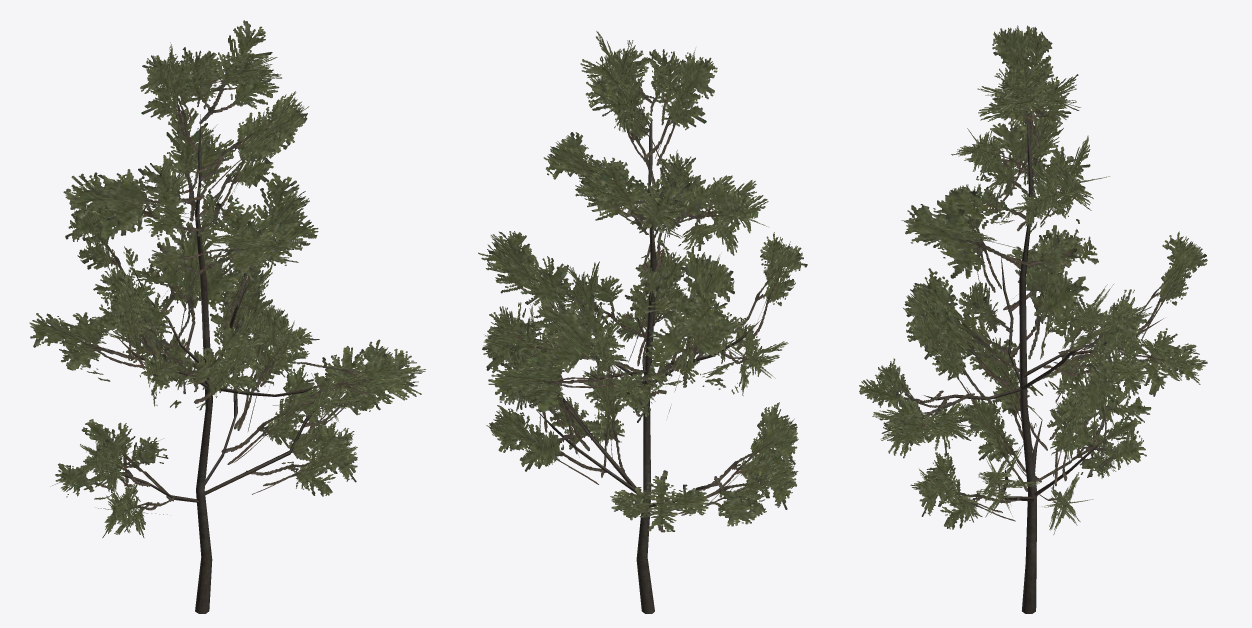
The model's file is pine-sapling-small-far.glb.
3 views of the same model, side by side, from view 1: azimuth 30°, elevation 25°; view 2: azimuth 150°, elevation 25°; view 3: azimuth 270°, elevation 25° (orthographic).
Visible parts, largest first — view 1: pine-needle-branches, pine-trunk; view 2: pine-needle-branches, pine-trunk; view 3: pine-needle-branches, pine-trunk.
Boxes of the visible parts, bbox=[...] form: pine-needle-branches: bbox=[29, 20, 425, 537]; pine-trunk: bbox=[115, 114, 323, 613]; pine-needle-branches: bbox=[478, 31, 807, 532]; pine-trunk: bbox=[537, 119, 761, 613]; pine-needle-branches: bbox=[859, 25, 1207, 534]; pine-trunk: bbox=[924, 114, 1163, 613].
Size of the model in its own units: 0.8588 by 1.32 by 0.8052.
Materials: 2 (2 with a texture image).
